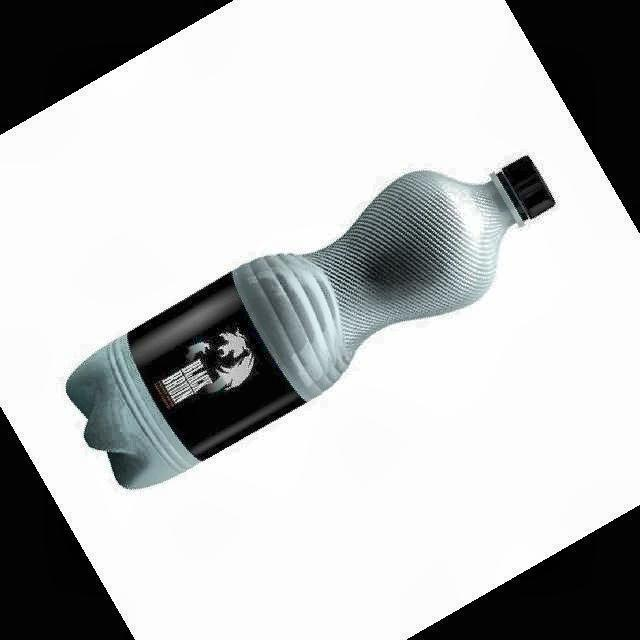plastic: (234, 156, 554, 400), (66, 335, 198, 489)
